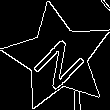N_NE: (26, 25, 90, 90)
